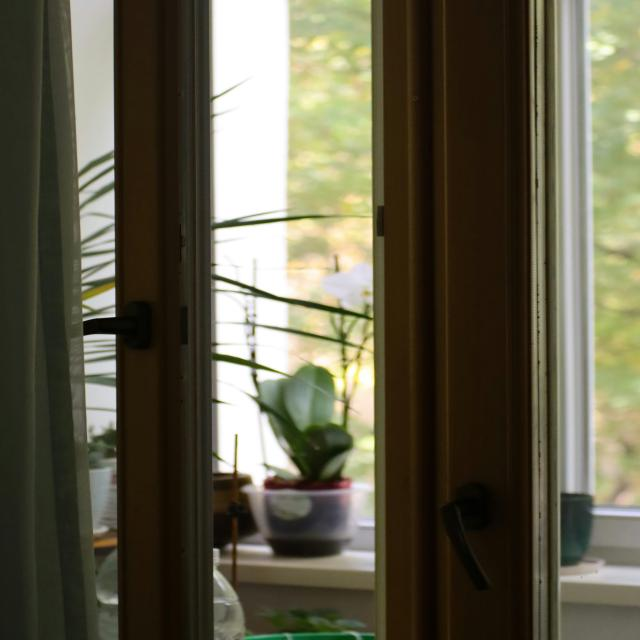door-handle: (441, 484, 491, 590), (82, 301, 152, 349)
